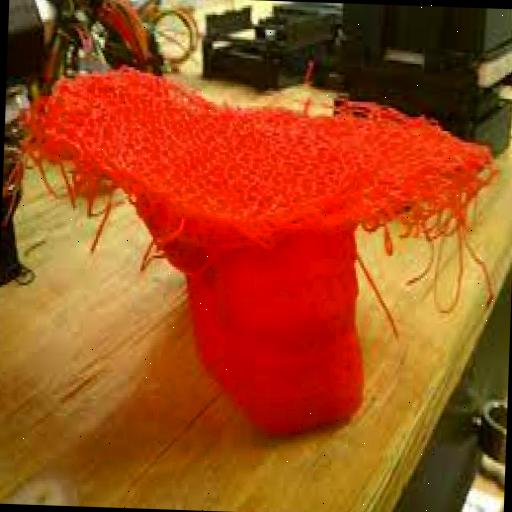spaghetti: (33, 44, 190, 274), (340, 134, 494, 316)
